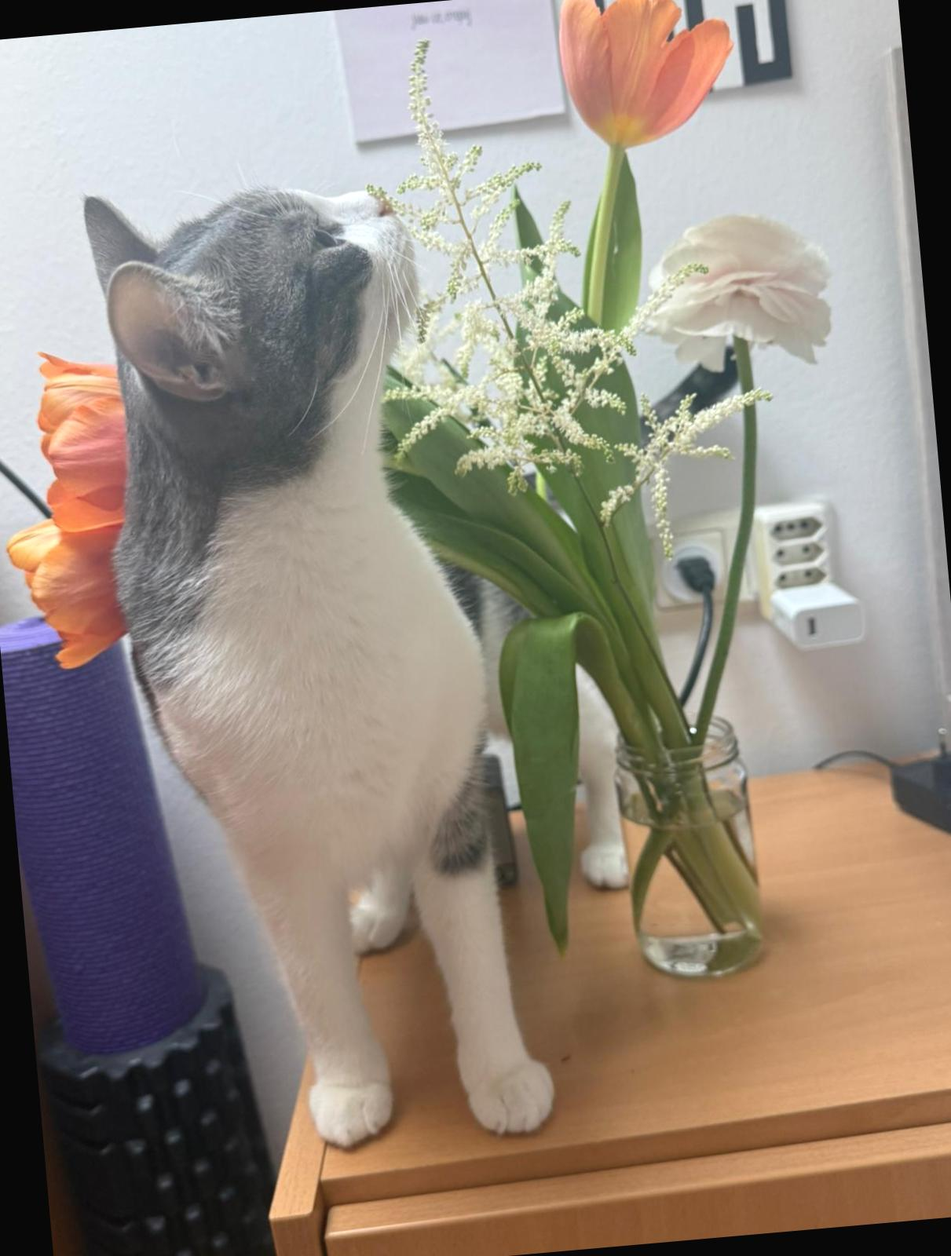macka: (80, 162, 560, 1163)
